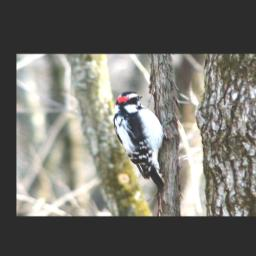Woodpecker: (110, 92, 172, 195)
